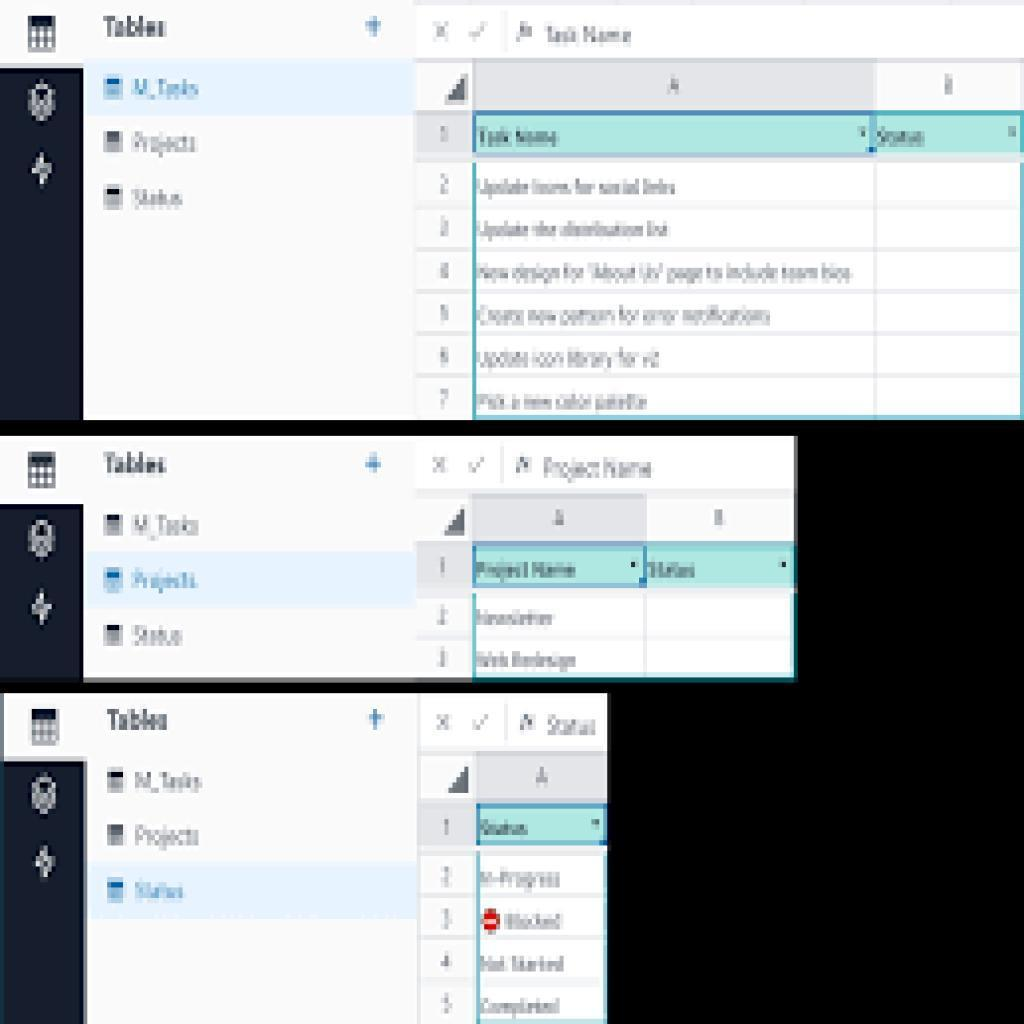icon: (13, 435, 70, 501), (20, 700, 80, 758), (16, 7, 68, 56), (22, 514, 64, 569), (22, 76, 62, 130), (22, 582, 66, 626), (27, 773, 65, 823), (26, 840, 63, 891), (22, 153, 61, 193), (104, 765, 134, 804), (97, 74, 131, 106), (100, 570, 131, 604), (98, 181, 124, 221), (105, 875, 132, 912), (361, 448, 389, 483), (100, 620, 128, 653), (430, 707, 459, 737), (101, 125, 127, 158), (101, 511, 127, 544), (430, 15, 456, 48), (472, 711, 501, 740), (104, 822, 131, 851), (464, 20, 493, 47), (364, 14, 390, 44), (427, 452, 456, 477), (465, 451, 488, 479), (367, 708, 389, 737)
table: (415, 60, 1024, 422), (419, 495, 796, 679), (419, 753, 607, 1024)
